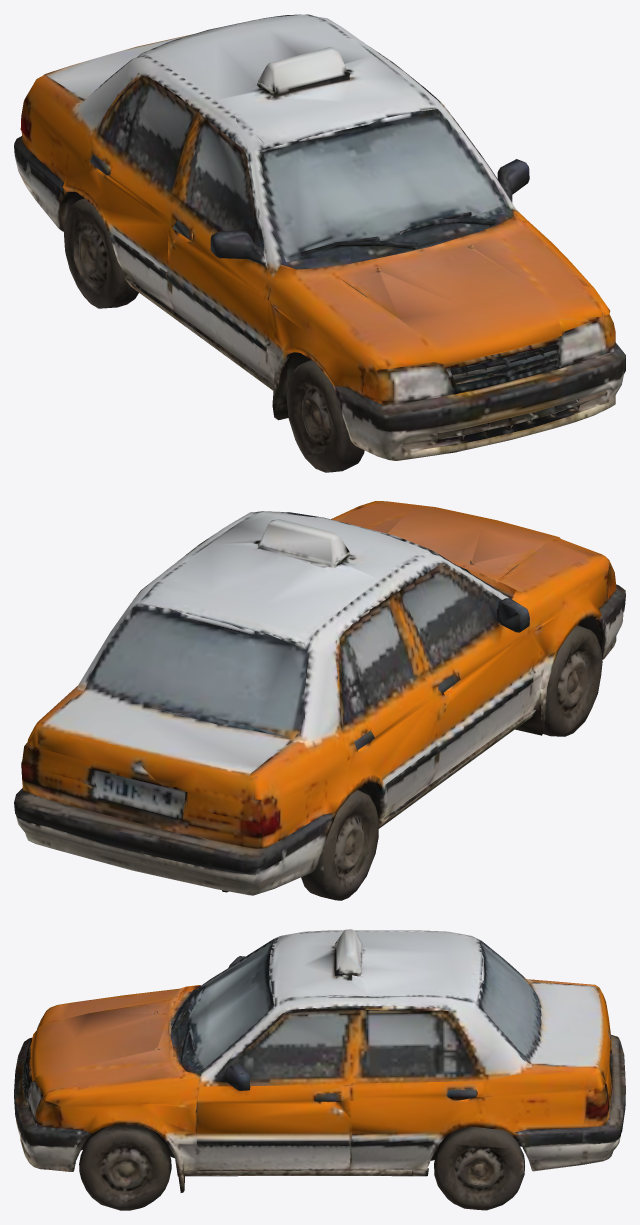
File: car_taxi.glb
3 renders of one model, top to bottom at view 1: azimuth 30°, elevation 25°; view 2: azimuth 150°, elevation 25°; view 3: azimuth 270°, elevation 25°, orthographic. The views are drawn at different scales.
Visible parts, largest first — view 1: geometry_0; view 2: geometry_0; view 3: geometry_0.
Part boxes in pixels (x1,y1,x2,y2): geometry_0: (14,14,625,472); geometry_0: (14,501,625,900); geometry_0: (14,929,625,1210).
Bounding box in the file's own units: 0.538 × 0.458 × 1.15.
Materials: 1 (1 with a texture image).
